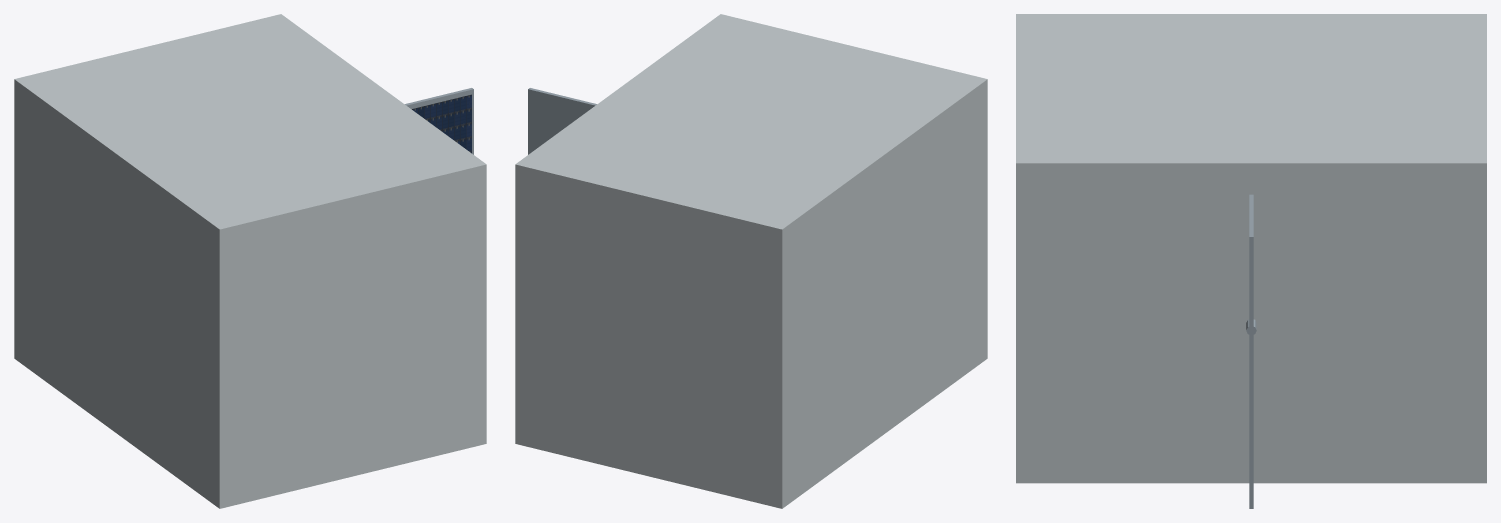
Rendered from ref-lm-900-25919.glb.
3 renders of one model, left to right at view 1: azimuth 30°, elevation 25°; view 2: azimuth 150°, elevation 25°; view 3: azimuth 270°, elevation 25°, orthographic. The views are drawn at different scales.
Visible parts, largest first — view 1: Spacecraft body, Photovoltaic laminates, Array frame; view 2: Spacecraft body, Array frame; view 3: Spacecraft body, Array frame.
Boxes of the visible parts, <box> form: Spacecraft body: <box>14,14,486,508</box>; Photovoltaic laminates: <box>412,94,471,153</box>; Array frame: <box>405,88,473,154</box>; Spacecraft body: <box>515,14,987,508</box>; Array frame: <box>528,88,596,154</box>; Spacecraft body: <box>1016,14,1486,483</box>; Array frame: <box>1249,194,1253,508</box>.
Bounding box in the file's own units: 2 × 1.5 × 2.
3 materials, 1 textured.
